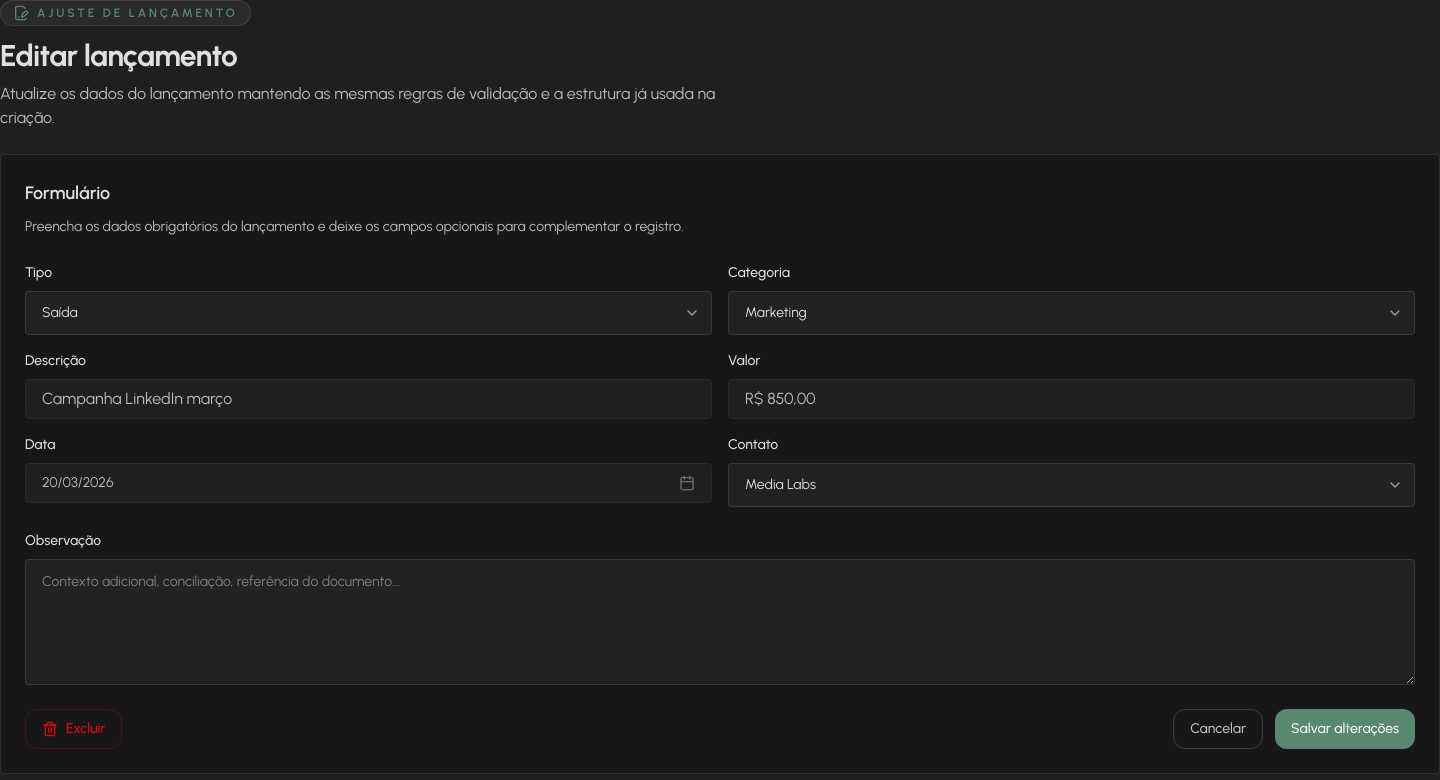
Test case: <EditTransactionPage /> › preenche o formulário com os dados do lançamento e salva a edição
The width and height of the screenshot is (1440, 780).
Replace the text in the field labelled "Descrição" with "Campanha LinkedIn abril". click: (368,399)
box: [42,387,695,411]
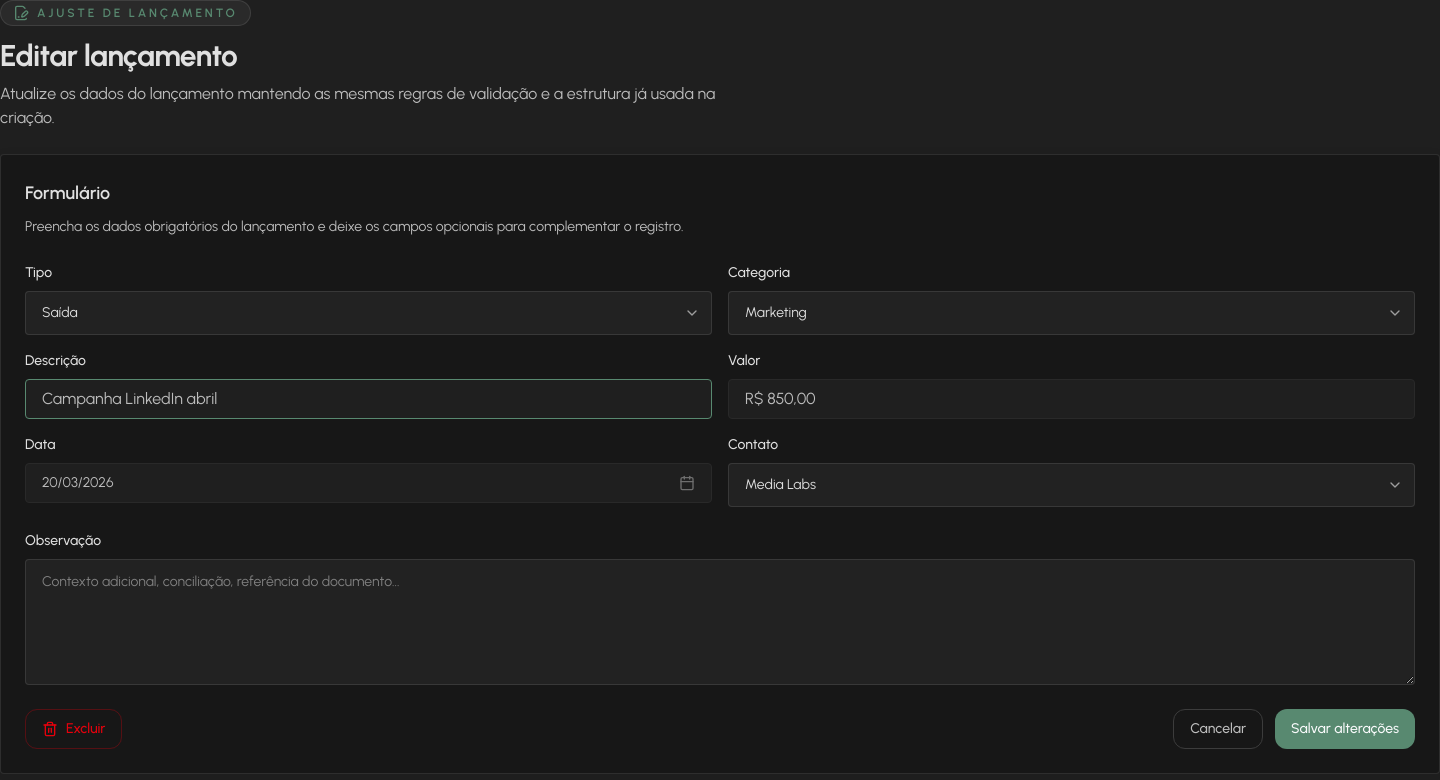
Replace the text in the field labelled "Valor" with "132000". click: (1072,399)
box: [745,387,1398,411]
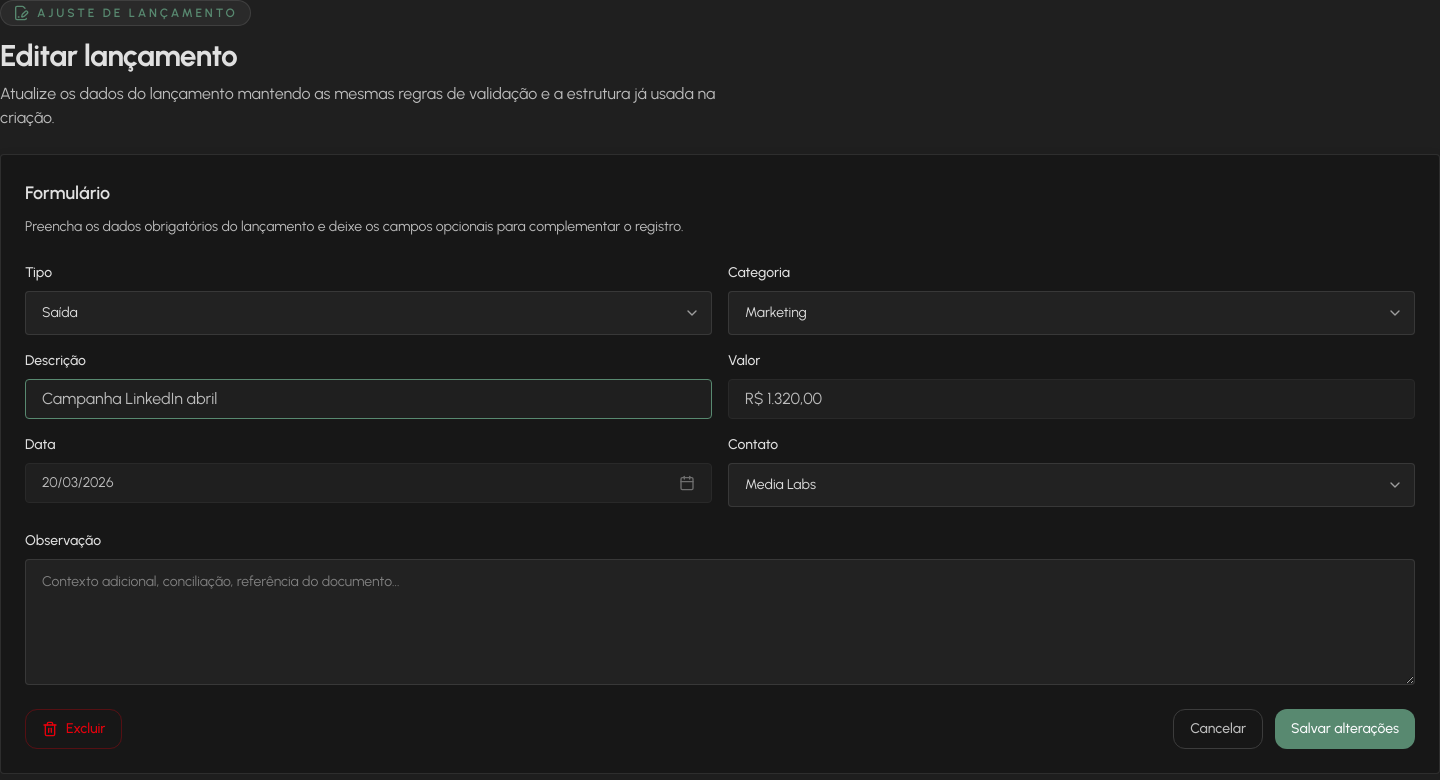
Click the button "Salvar alterações". click: (1345,729)
box: [1275,709,1415,749]
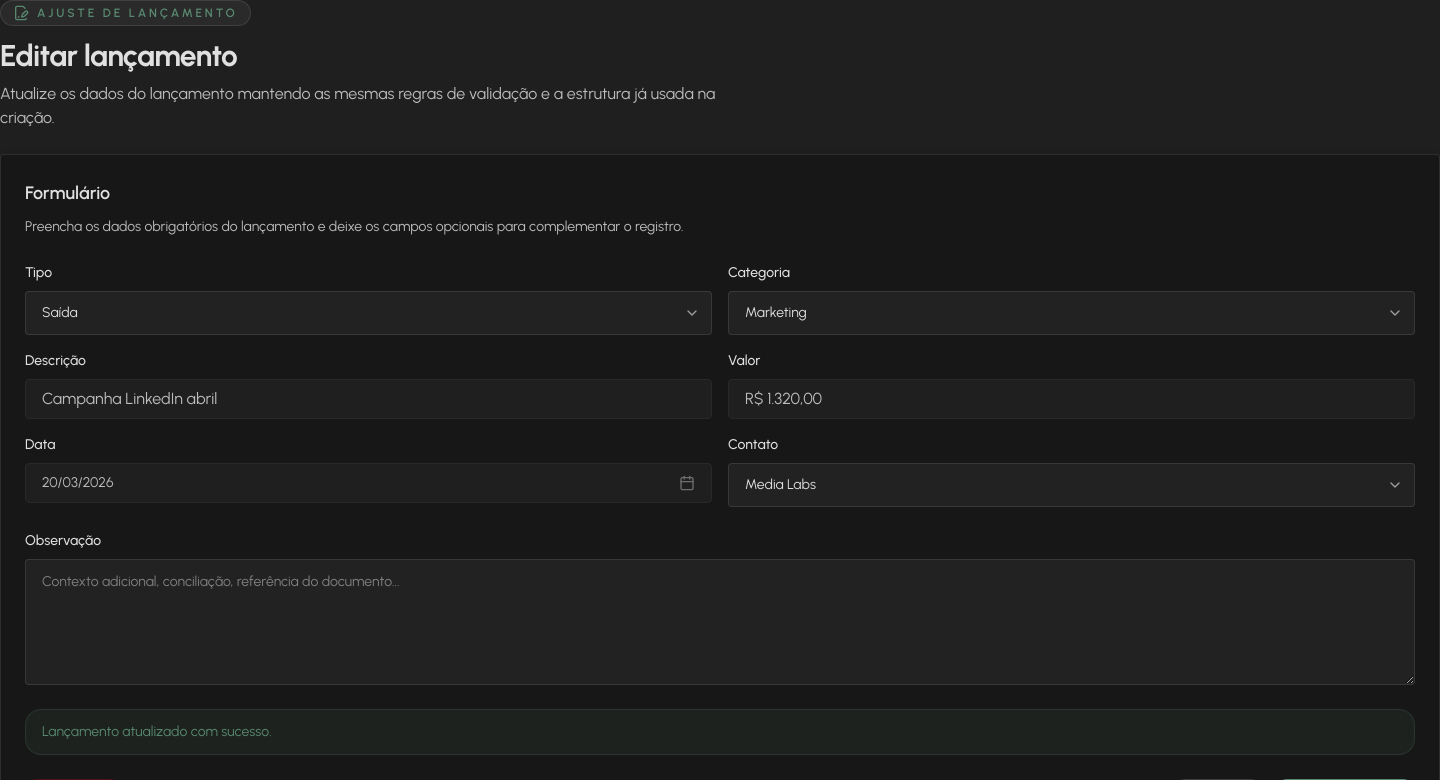
Expected: the text "Lançamento atualizado com sucesso." is shown, [25,709,1415,755]
